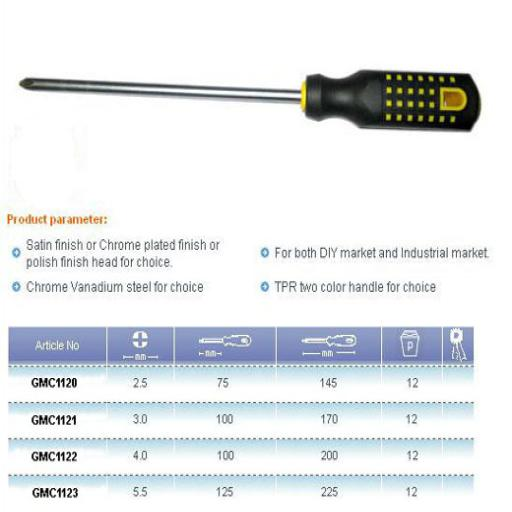screwdriver: (20, 70, 482, 133)
